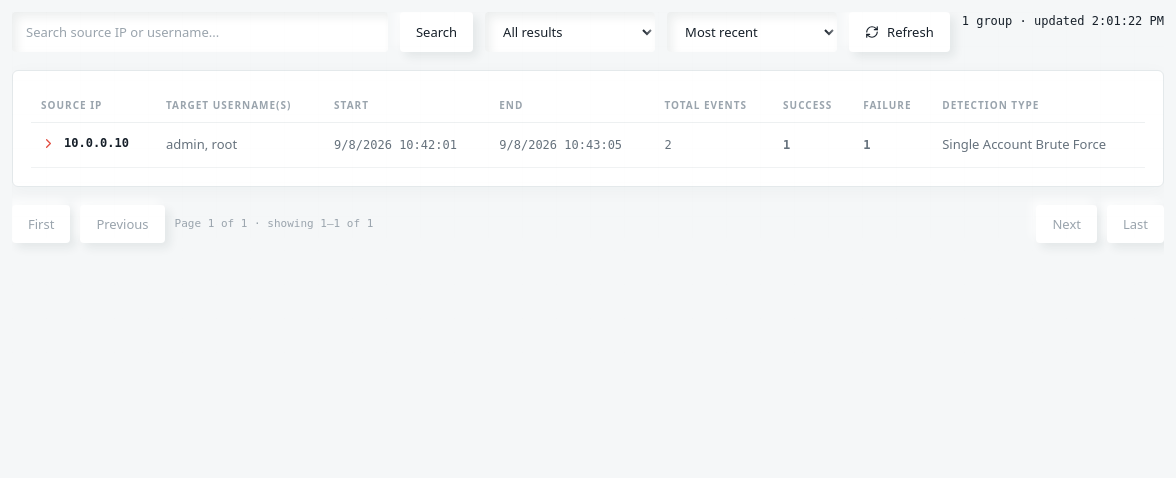
Scenario: Events page (server-side grouped events) › expands a group into the per-event table
The width and height of the screenshot is (1176, 478).
Click the button "10.0.0.10": (85,143) [41, 134, 129, 152]
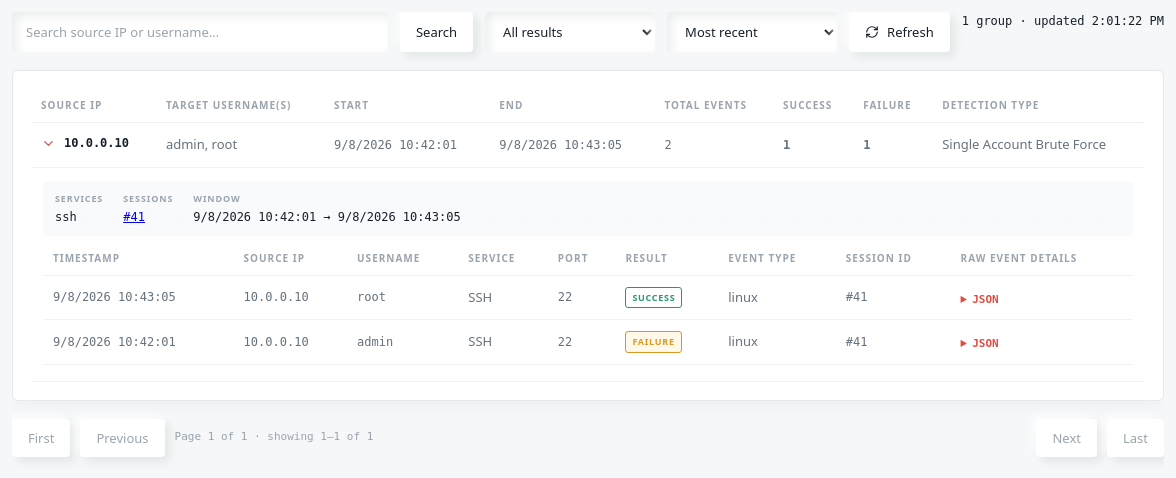
Now the button "10.0.0.10" is expanded
Now the text "root" is shown, box [347, 275, 458, 320]
Now the text "admin" is shown, box [347, 320, 458, 364]
// Collapsing hides the expanded table again.
Click the button "10.0.0.10": (85,143) [41, 134, 129, 152]
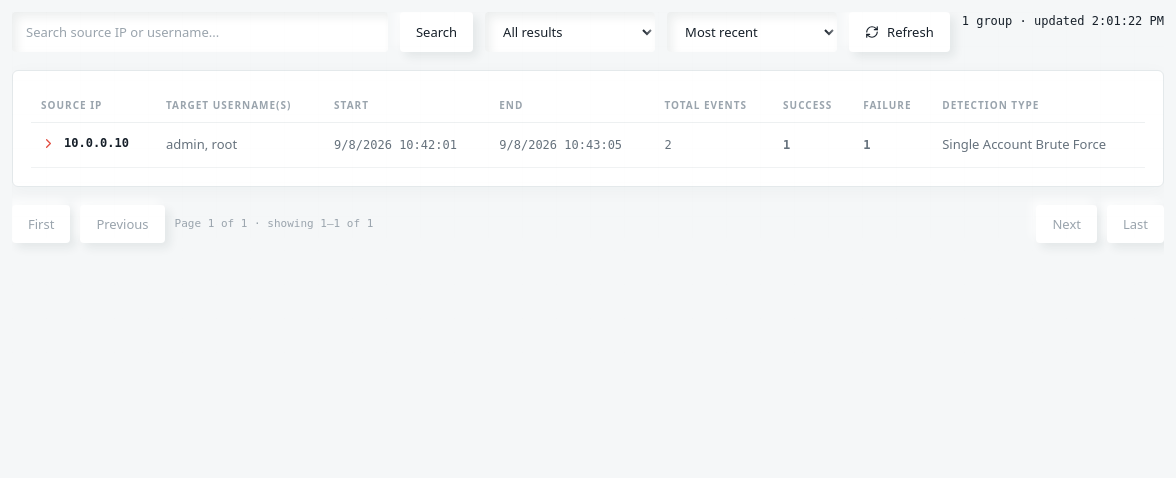
Now the button "10.0.0.10" is collapsed, box [41, 134, 129, 152]
